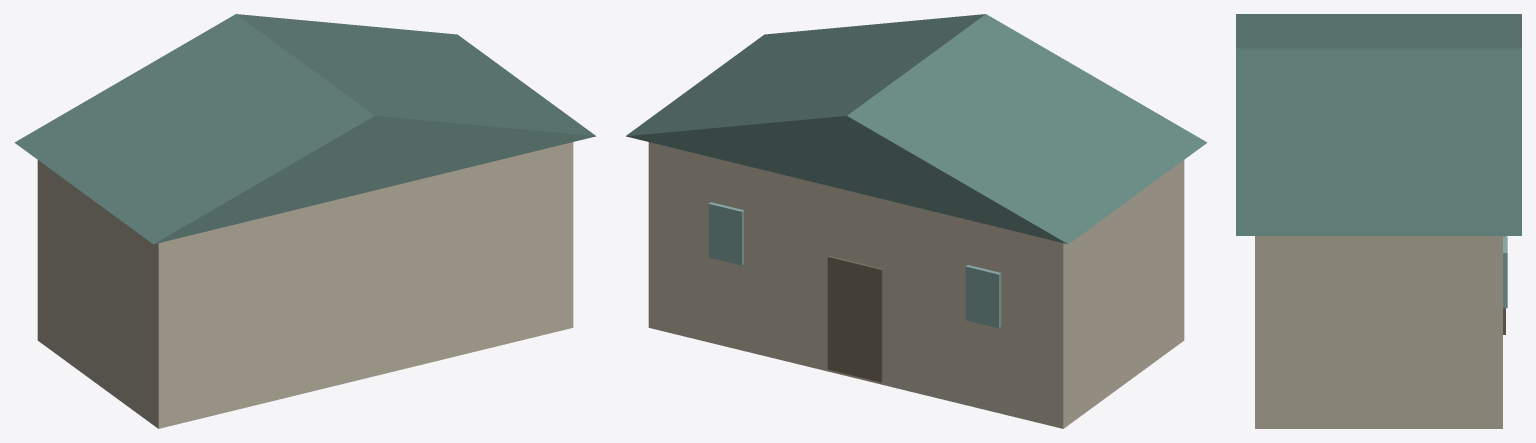
The model's file is city_west_hall.glb.
3 renders of one model, left to right at view 1: azimuth 30°, elevation 25°; view 2: azimuth 150°, elevation 25°; view 3: azimuth 270°, elevation 25°, orthographic. The views are drawn at different scales.
Parts seen in each view (by area): view 1: west_hall; view 2: west_hall; view 3: west_hall.
Part boxes in pixels (x1=…): west_hall: x1=14, y1=14, x2=595, y2=428; west_hall: x1=626, y1=14, x2=1207, y2=428; west_hall: x1=1236, y1=14, x2=1521, y2=428.
Size of the model in its own units: 5.6 by 3.25 by 3.04.
